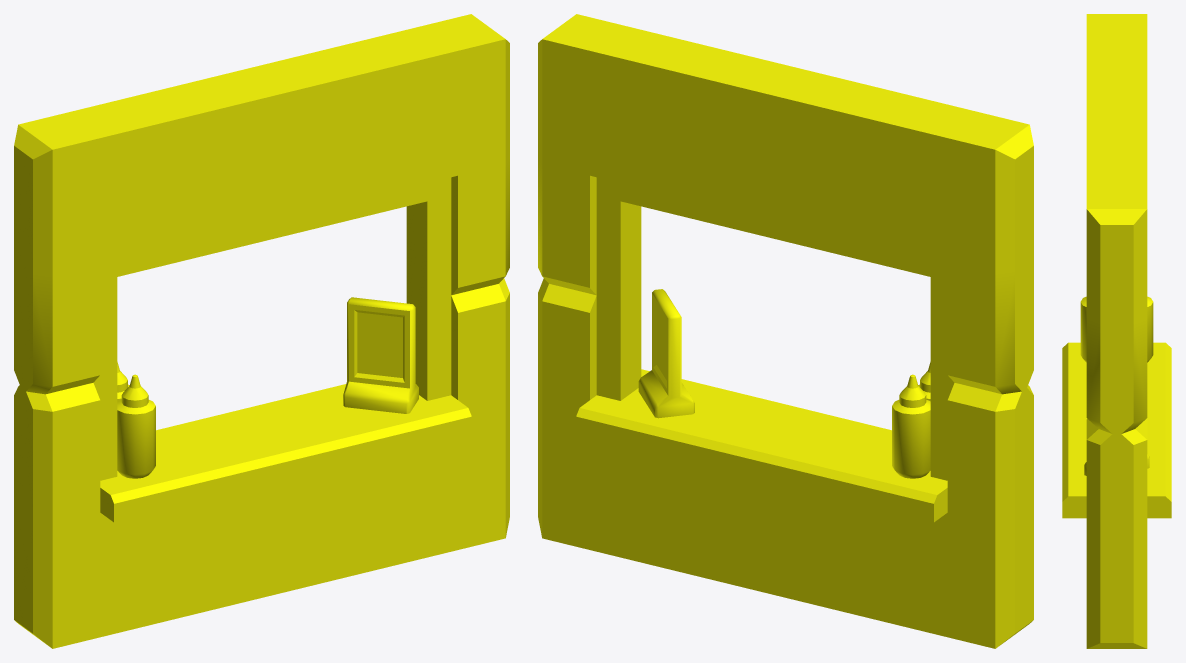
Rendered from wall_orderwindow_decorated.gltf.
The picture shows the model from 3 angles, left to right: view 1: azimuth 30°, elevation 25°; view 2: azimuth 150°, elevation 25°; view 3: azimuth 270°, elevation 25°; orthographic projection. The views are drawn at different scales.
Visible parts, largest first — view 1: wall_orderwindow_decorated; view 2: wall_orderwindow_decorated; view 3: wall_orderwindow_decorated.
Boxes of the visible parts, x1=… form: wall_orderwindow_decorated: x1=14, y1=14, x2=509, y2=648; wall_orderwindow_decorated: x1=538, y1=14, x2=1033, y2=648; wall_orderwindow_decorated: x1=1062, y1=14, x2=1171, y2=648.
Size of the model in its own units: 4 by 4 by 0.9.
1 material, 1 textured.
